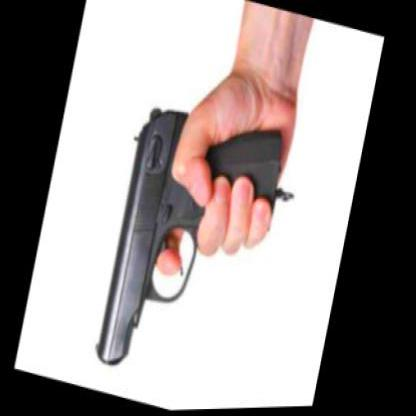pistol: (92, 87, 291, 402)
